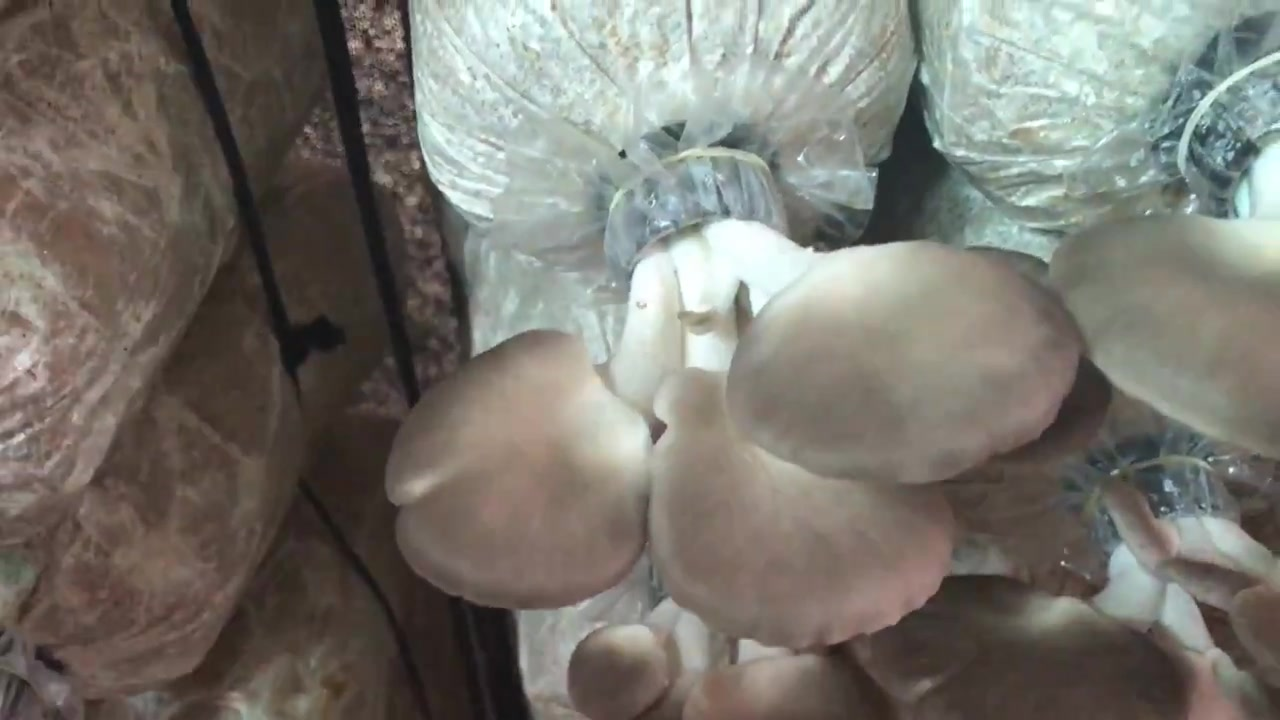nam: (388, 160, 1106, 645), (850, 453, 1280, 716), (1050, 30, 1280, 454), (567, 596, 899, 720)
